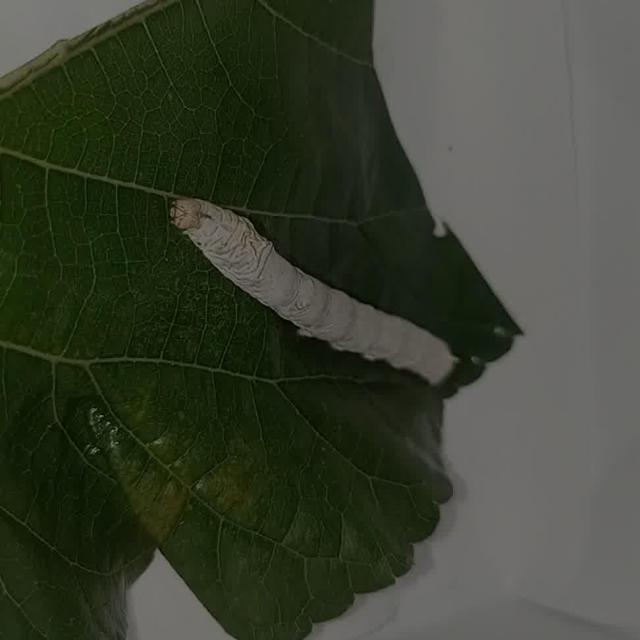Healthy: (160, 187, 464, 403)
